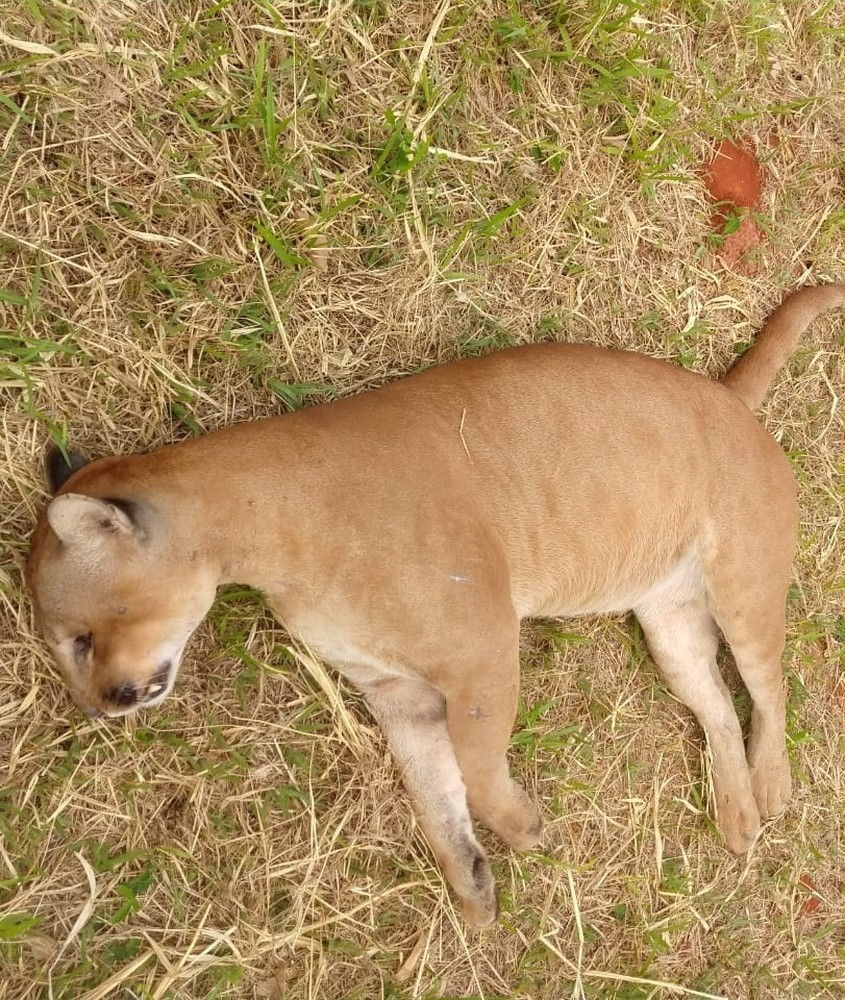OncaParda: (6, 277, 826, 933)
